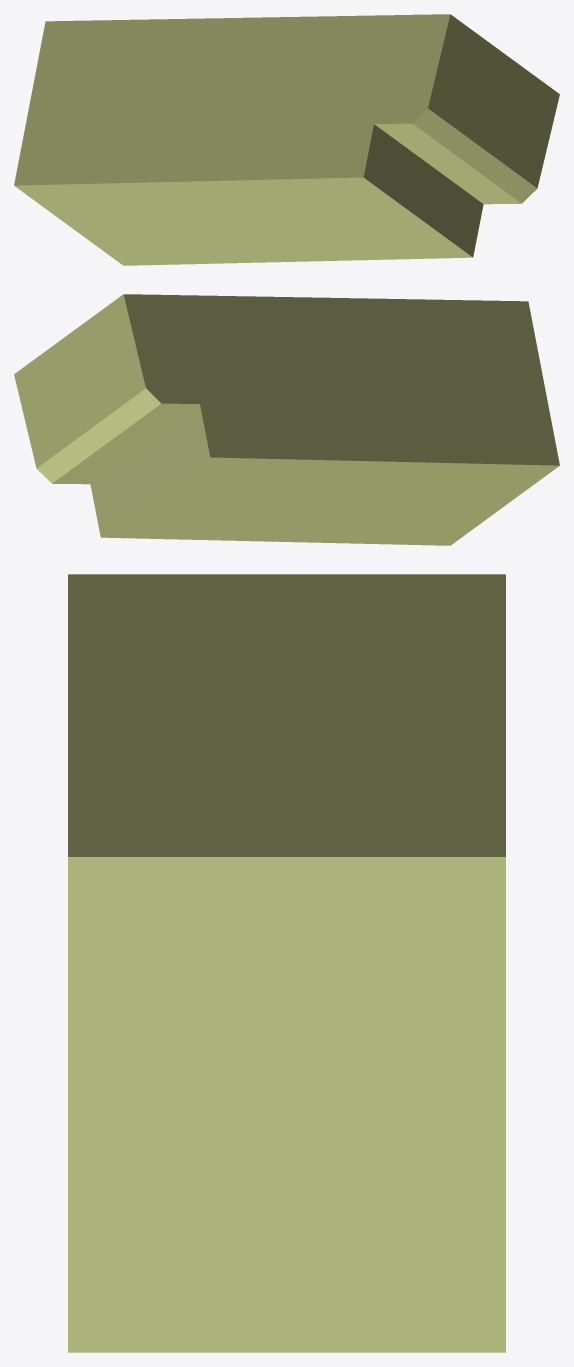
3 views of the same model, one above another, from view 1: azimuth 30°, elevation 25°; view 2: azimuth 150°, elevation 25°; view 3: azimuth 270°, elevation 25° (orthographic). The views are drawn at different scales.
Parts seen in each view (by area): view 1: 0_3_1_3_3_2_2_1_3; view 2: 0_3_1_3_3_2_2_1_3; view 3: 0_3_1_3_3_2_2_1_3.
Boxes of the visible parts, x1,y1,x2,y2 form: 0_3_1_3_3_2_2_1_3: (14, 14, 559, 265); 0_3_1_3_3_2_2_1_3: (14, 294, 559, 545); 0_3_1_3_3_2_2_1_3: (68, 574, 505, 1352).
Bounding box in the file's own units: 20.7 × 10.6 × 9.
